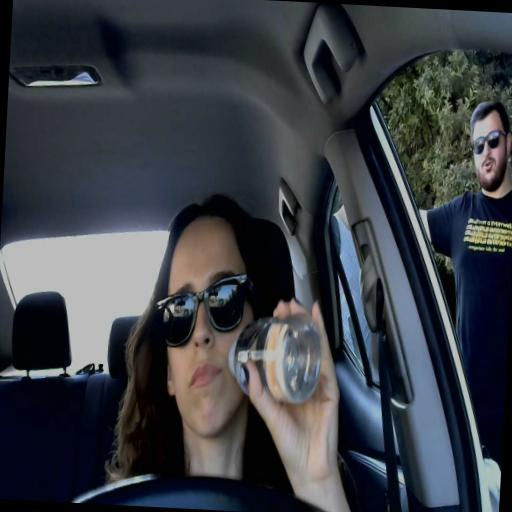Drinking: (157, 218, 338, 468)
